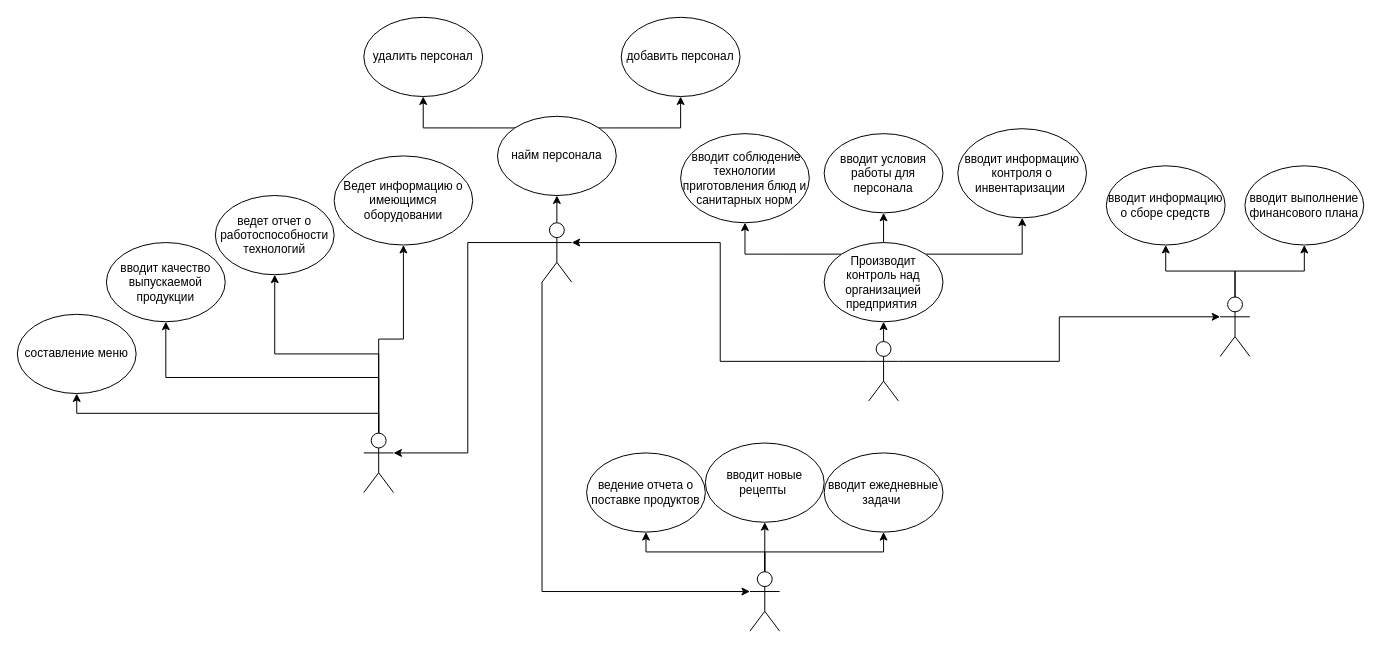
This 1381x669 diagram has some shape labels left out. The shapes that lost their labels are listed below. From the top down, each one's centre as x and y in pixels, then its label:
At (556,252): "Менеджер".
At (1234,326): "Бухгалтер".
At (883,371): "Директор".
At (378,462): "Техник-технолог".
At (764,601): "Шеф-повар".
